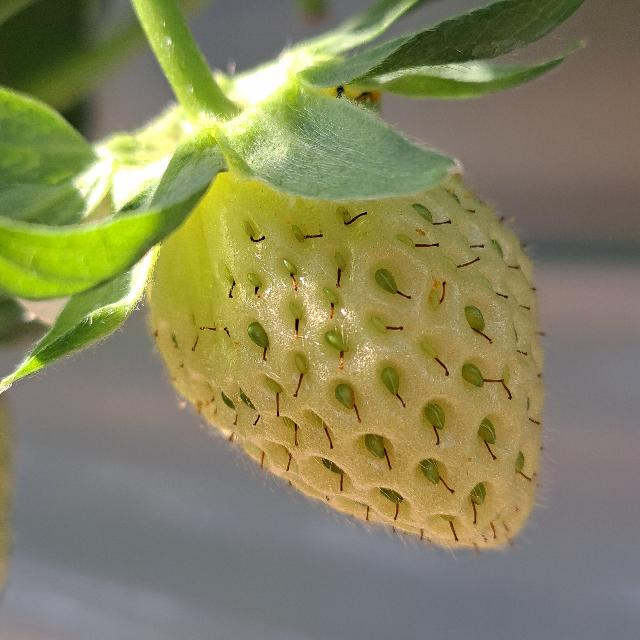Health_25: (149, 172, 546, 548)
